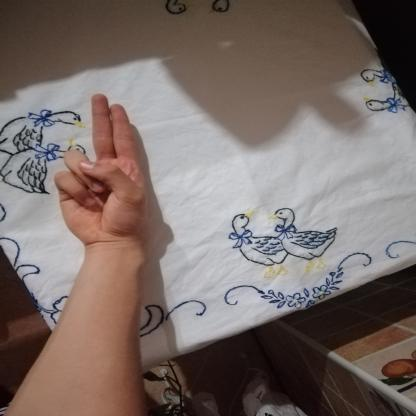TA: (40, 85, 166, 252)
